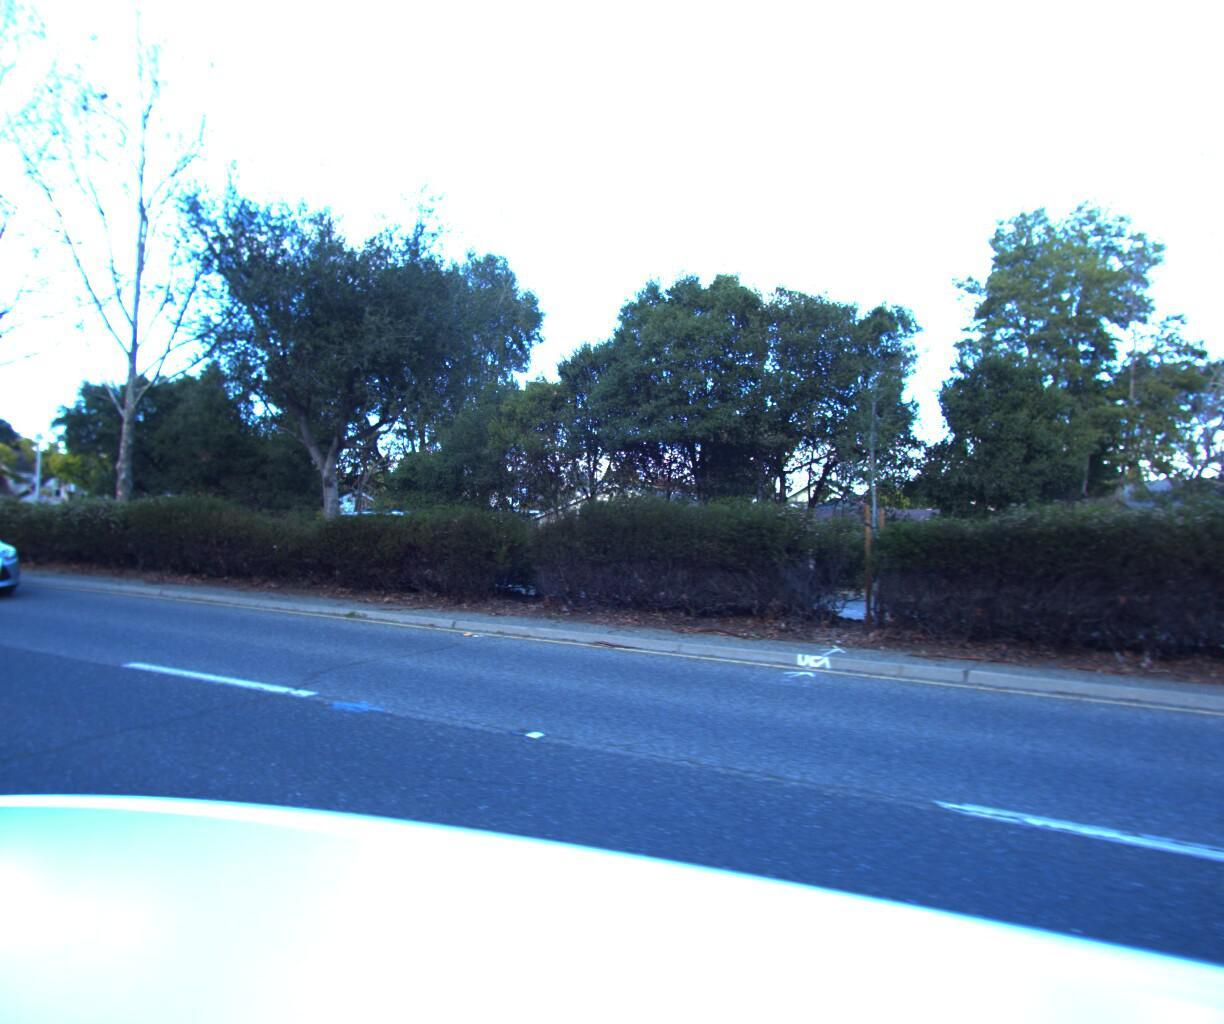car: (262, 502, 453, 584), (0, 495, 38, 609)
